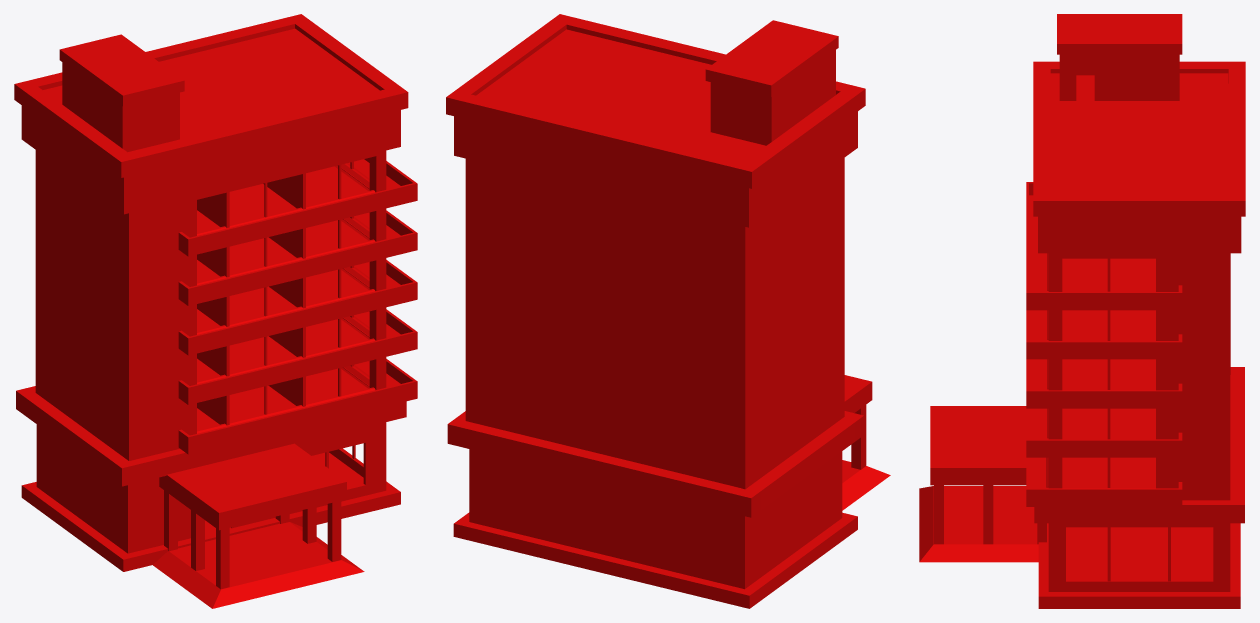
The model's file is SM_Bld_Commercial_Large_01_Collision.fbx.
3 views of the same model, side by side, from view 1: azimuth 30°, elevation 25°; view 2: azimuth 150°, elevation 25°; view 3: azimuth 270°, elevation 25° (orthographic). The views are drawn at different scales.
Visible parts, largest first — view 1: SM_Bld_Commercial_Large_01_Collision; view 2: SM_Bld_Commercial_Large_01_Collision; view 3: SM_Bld_Commercial_Large_01_Collision.
Boxes of the visible parts, x1,y1,x2,y2 form: SM_Bld_Commercial_Large_01_Collision: (14,14,417,608); SM_Bld_Commercial_Large_01_Collision: (446,14,890,608); SM_Bld_Commercial_Large_01_Collision: (919,14,1245,608).
Bounding box in the file's own units: 1857 × 2835 × 1805.
